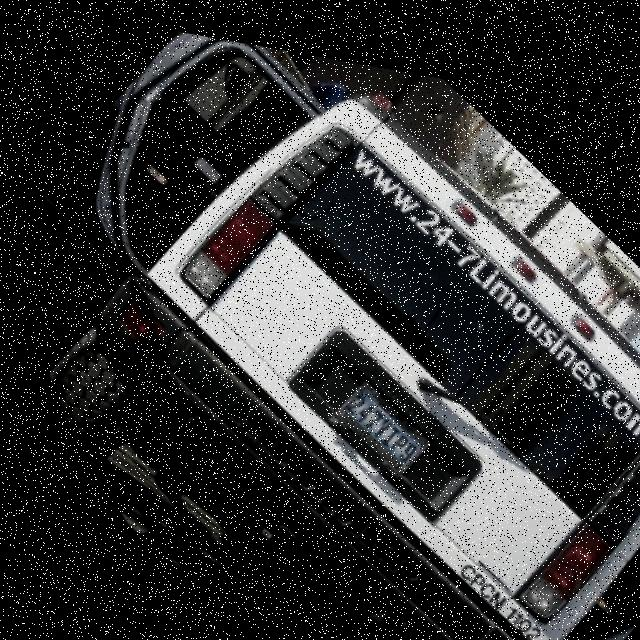license_plate: (321, 363, 424, 468)
